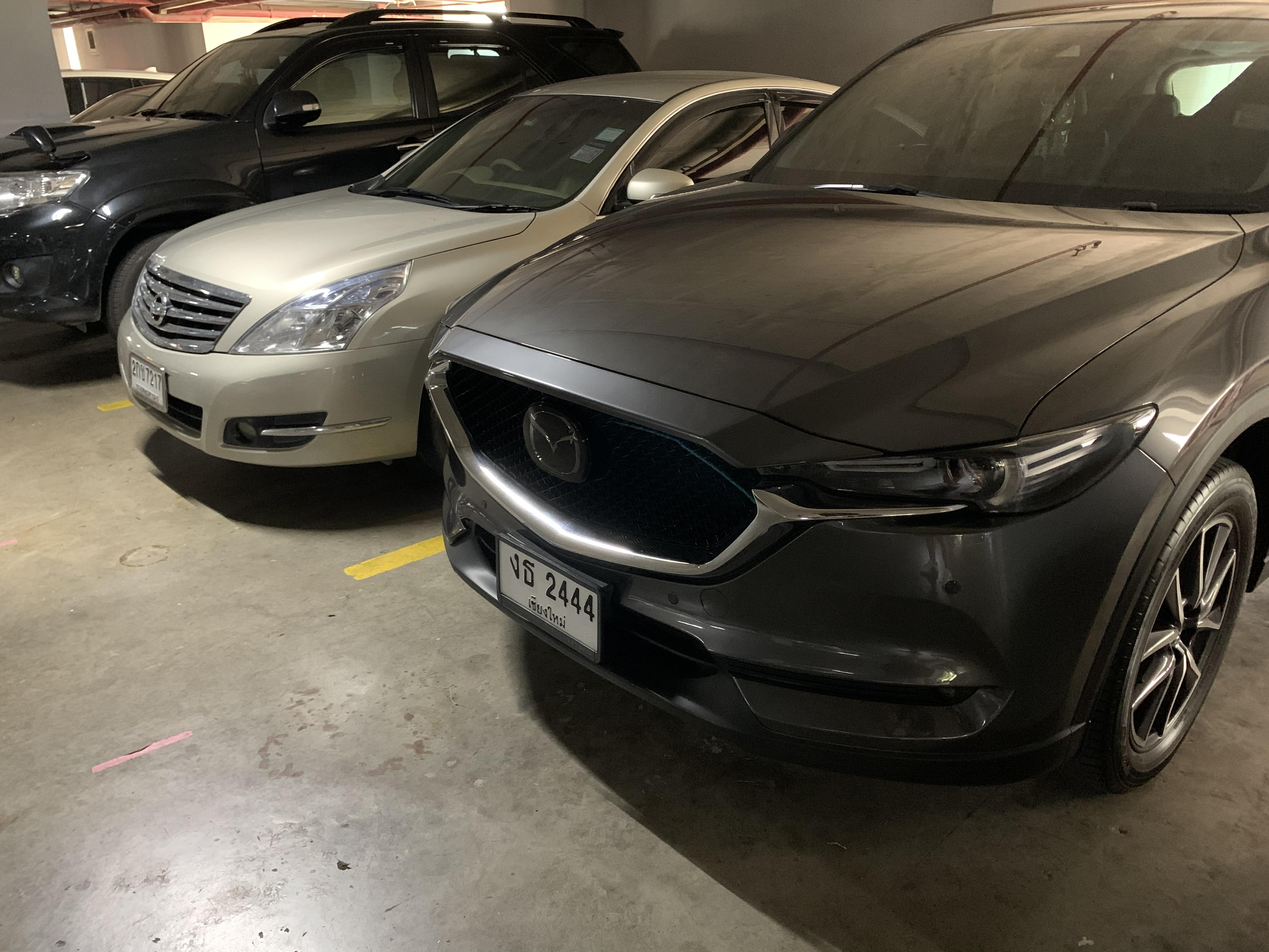license-plate: (492, 530, 607, 664), (126, 349, 175, 419)
